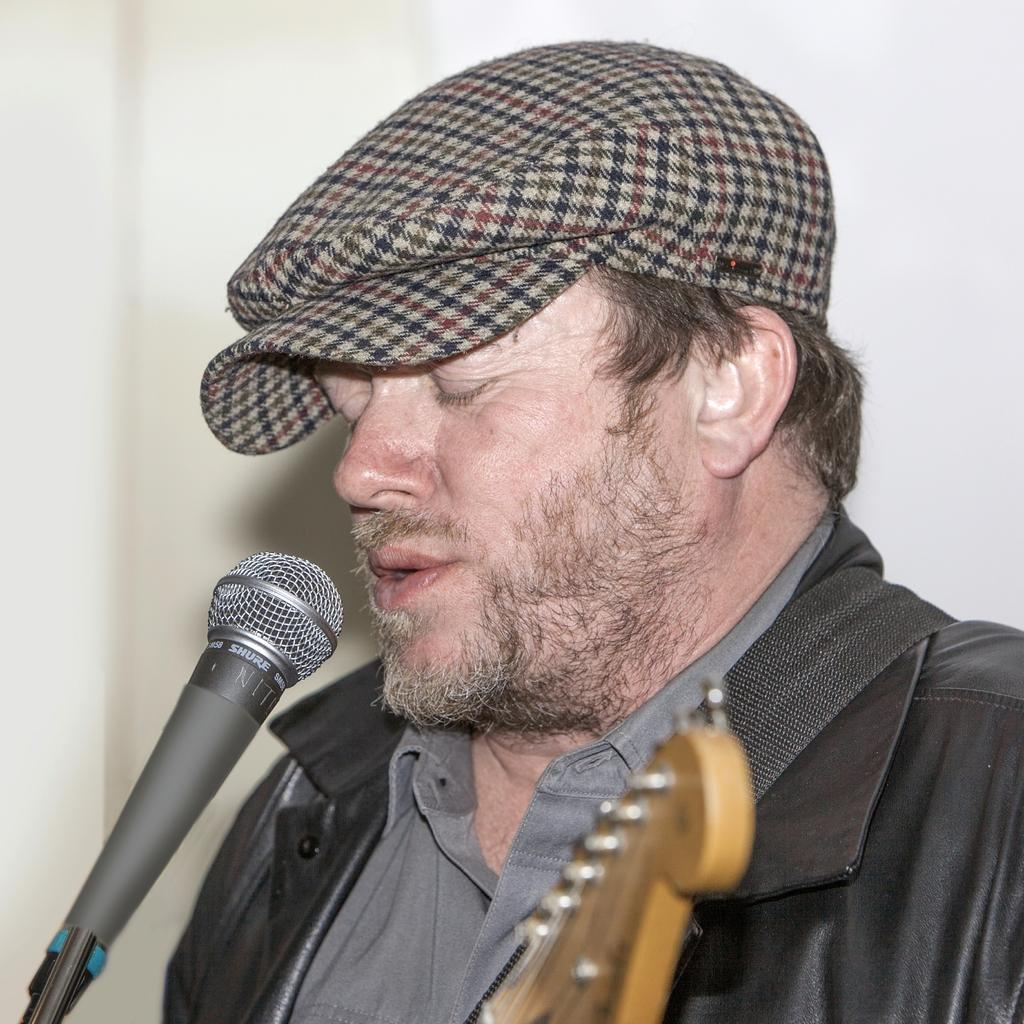Hat: (198, 34, 836, 454)
